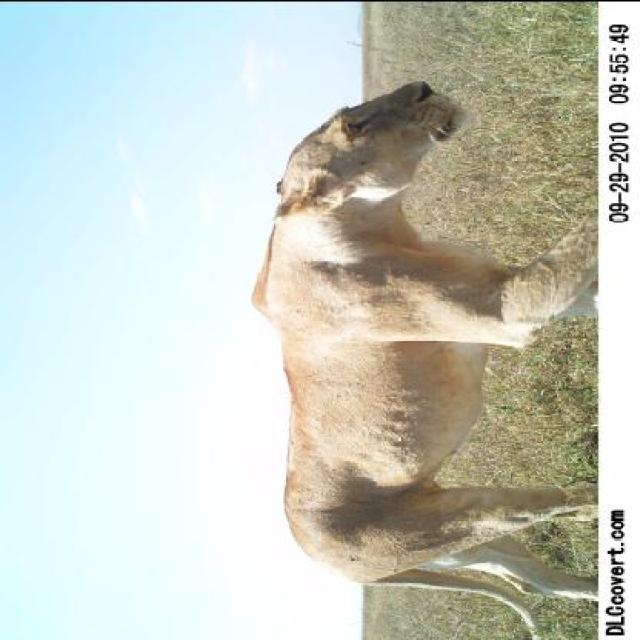Lion: (200, 46, 603, 631)
